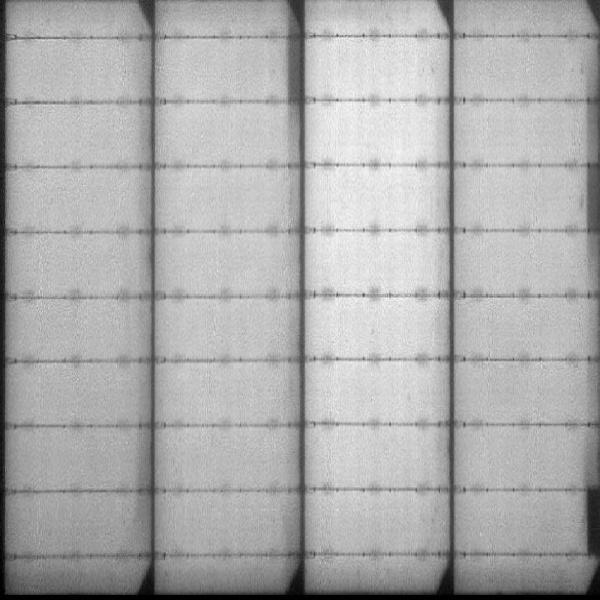black_border: (285, 20, 302, 126), (582, 478, 599, 559), (582, 165, 600, 239)
